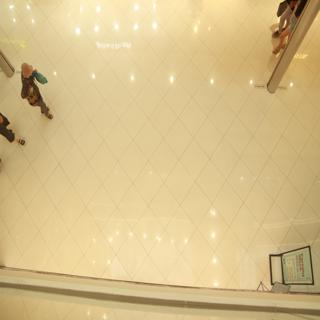person: (17, 55, 58, 120)
